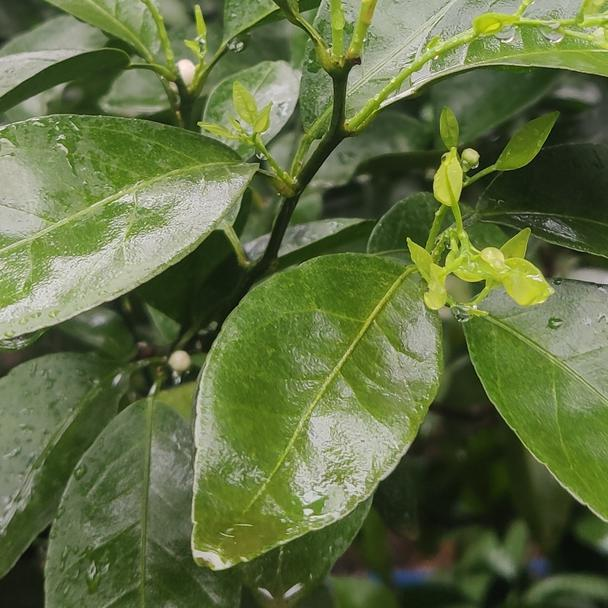shoot: (421, 166, 551, 316), (209, 90, 277, 152)
